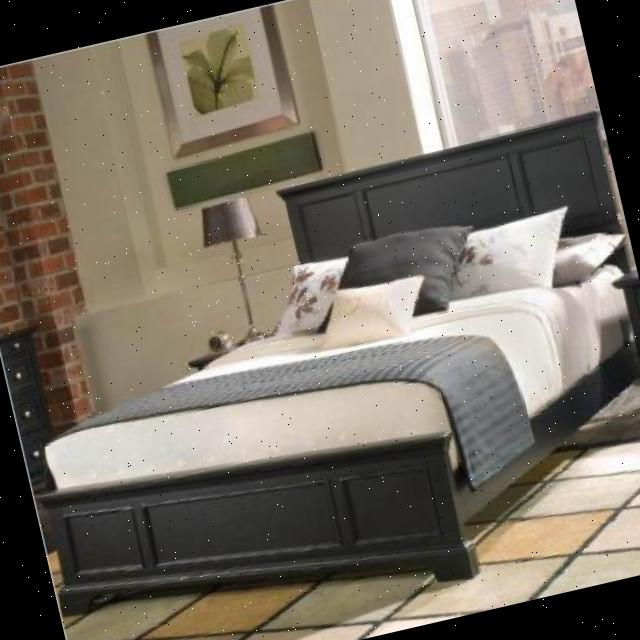Bed: (0, 103, 640, 640)
